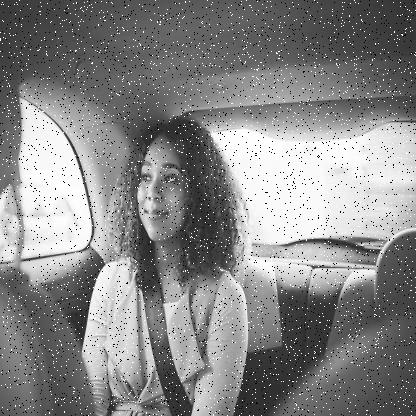seatbelt: (71, 115, 235, 416)
